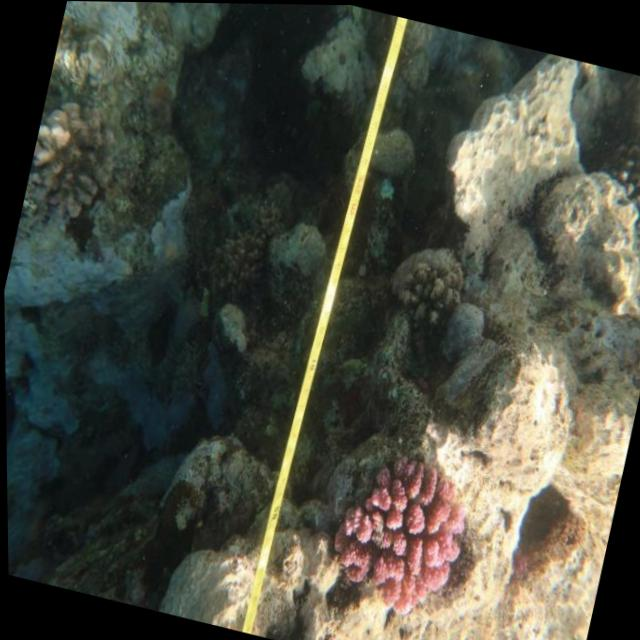Healthy Coral: (309, 435, 483, 631)
